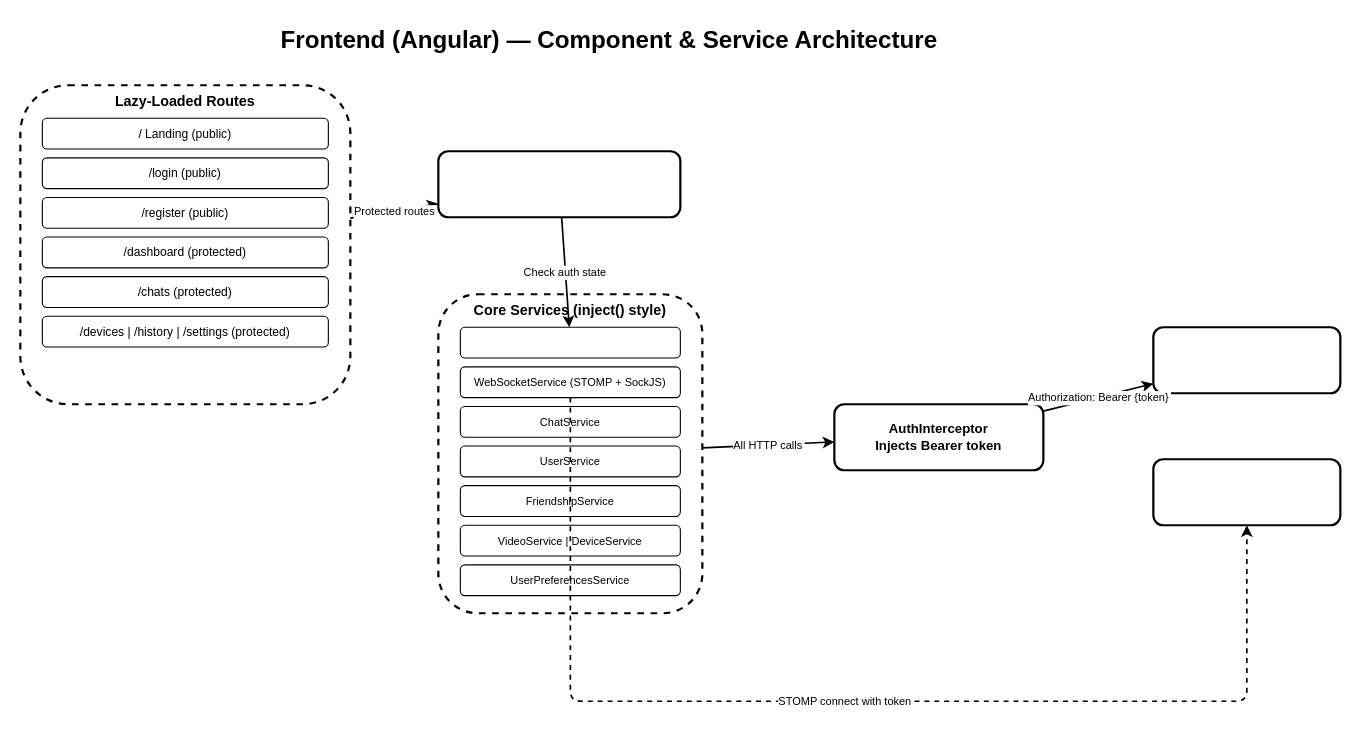
This 1360x729 diagram has some shape labels left out. Each missing label, with the centre of its shape:
"AuthGuard Protects authenticated routes" goes at point 559,184.
"AuthService (Firebase SDK + Signals)" goes at point 569,342.
"Spring Boot API /api/**" goes at point 1246,360.
"WebSocket /ws STOMP Broker" goes at point 1246,492.
